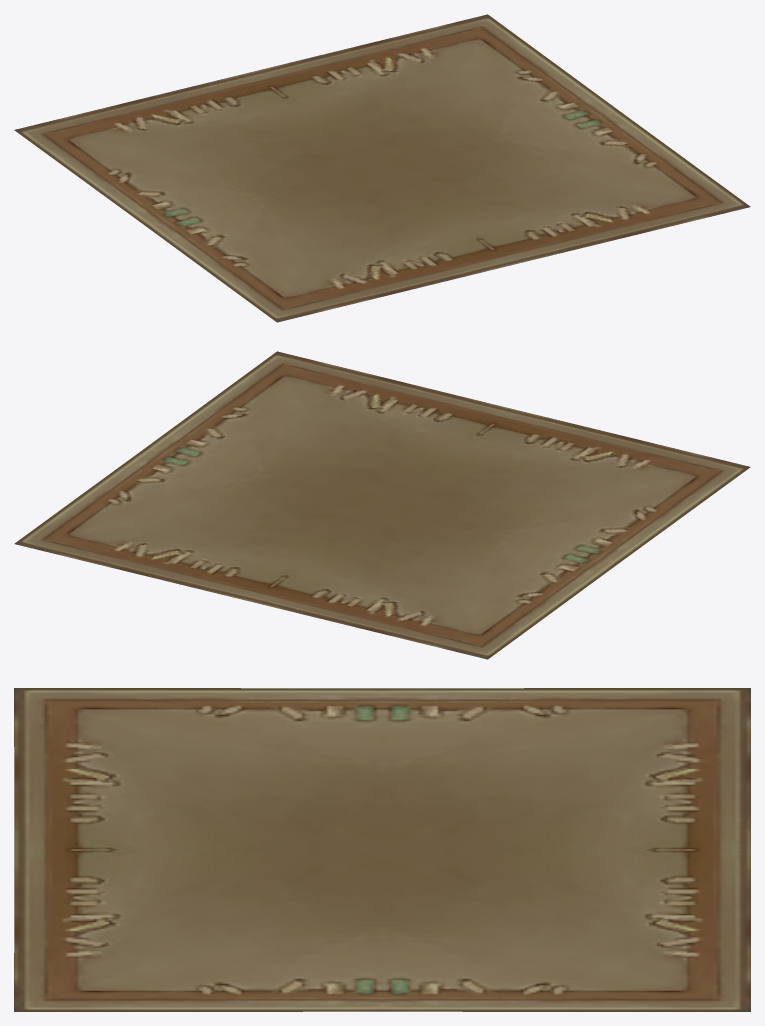
Rendered from Map_11_carpet03.FBX.
3 views of the same model, one above another, from view 1: azimuth 30°, elevation 25°; view 2: azimuth 150°, elevation 25°; view 3: azimuth 270°, elevation 25° (orthographic). The views are drawn at different scales.
Visible parts, largest first — view 1: Map_11_carpet03; view 2: Map_11_carpet03; view 3: Map_11_carpet03.
Boxes of the visible parts, x1,y1,x2,y2 form: Map_11_carpet03: [14, 14, 750, 322]; Map_11_carpet03: [14, 351, 750, 659]; Map_11_carpet03: [14, 688, 750, 1011].
Size of the model in its own units: 450 by 433 by 2e-05.
